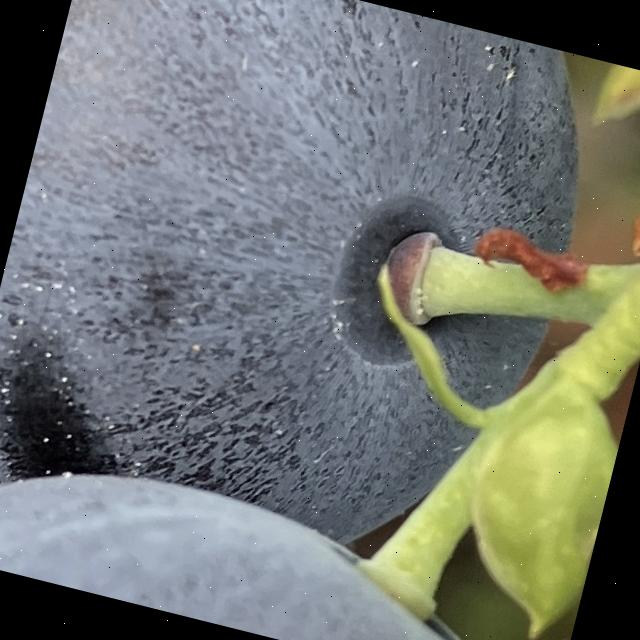Blueberries: (0, 0, 626, 640), (0, 429, 584, 640)
